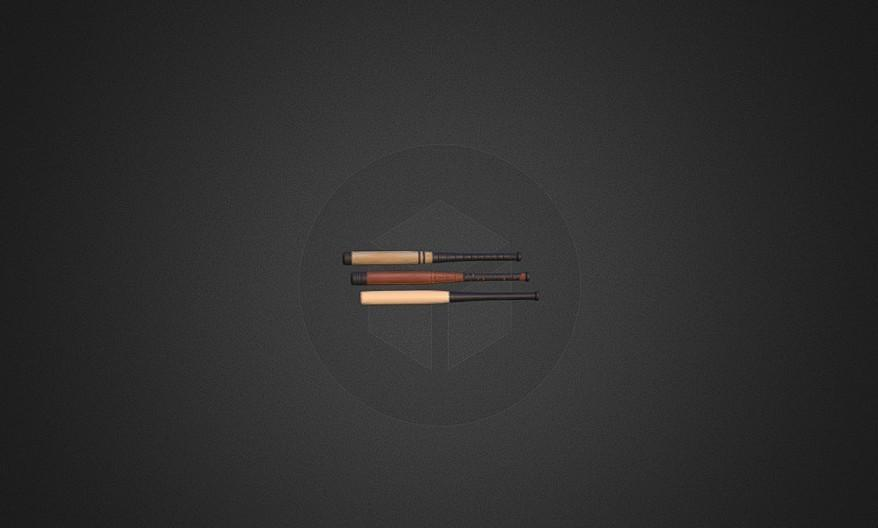Baseball-Bat: (341, 249, 522, 265), (359, 289, 539, 305)
